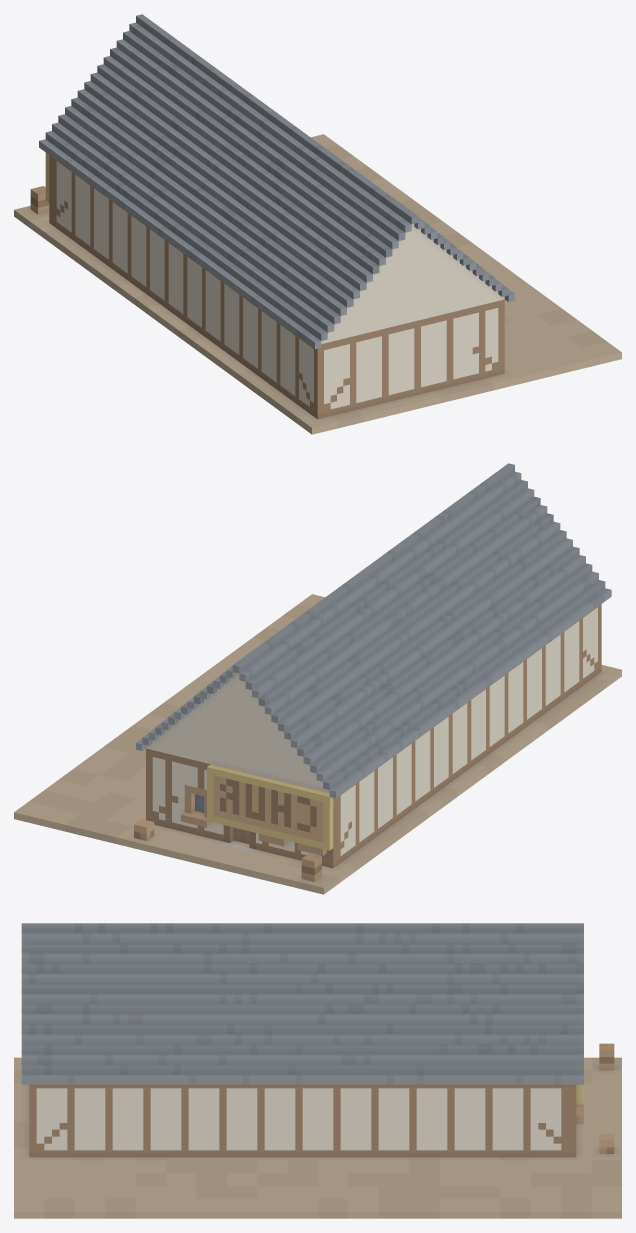
File: church.glb
3 views of the same model, one above another, from view 1: azimuth 30°, elevation 25°; view 2: azimuth 150°, elevation 25°; view 3: azimuth 270°, elevation 25° (orthographic).
Visible parts, largest first — view 1: church; view 2: church; view 3: church.
Boxes of the visible parts, x1,y1,x2,y2 form: church: [14, 14, 621, 434]; church: [14, 463, 621, 894]; church: [14, 923, 621, 1218].
Bounding box in the file's own units: 6 × 3.5 × 10.
